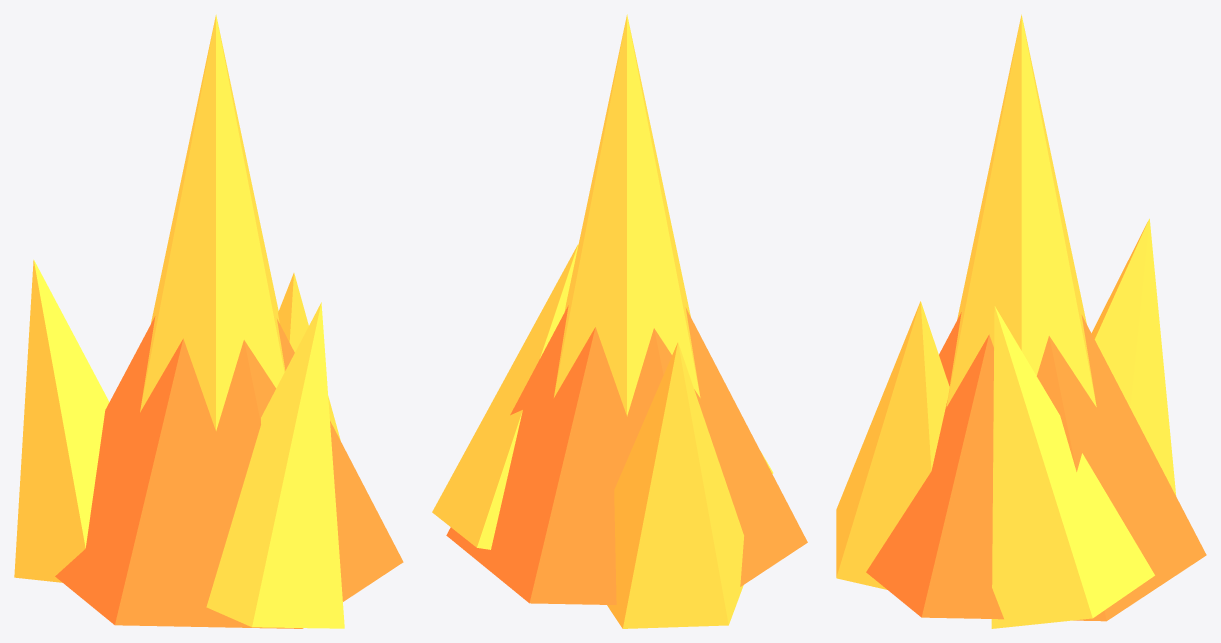
Rendered from FX_Flame_Large.fbx.
3 renders of one model, left to right at view 1: azimuth 30°, elevation 25°; view 2: azimuth 150°, elevation 25°; view 3: azimuth 270°, elevation 25°, orthographic. The views are drawn at different scales.
Visible parts, largest first — view 1: FX_Flame_Large.002; view 2: FX_Flame_Large.002; view 3: FX_Flame_Large.002.
Boxes of the visible parts, x1,y1,x2,y2 form: FX_Flame_Large.002: (14,14,403,628); FX_Flame_Large.002: (432,14,807,628); FX_Flame_Large.002: (836,14,1206,628).
Bounding box in the file's own units: 0.4525 × 0.7633 × 0.4597.
